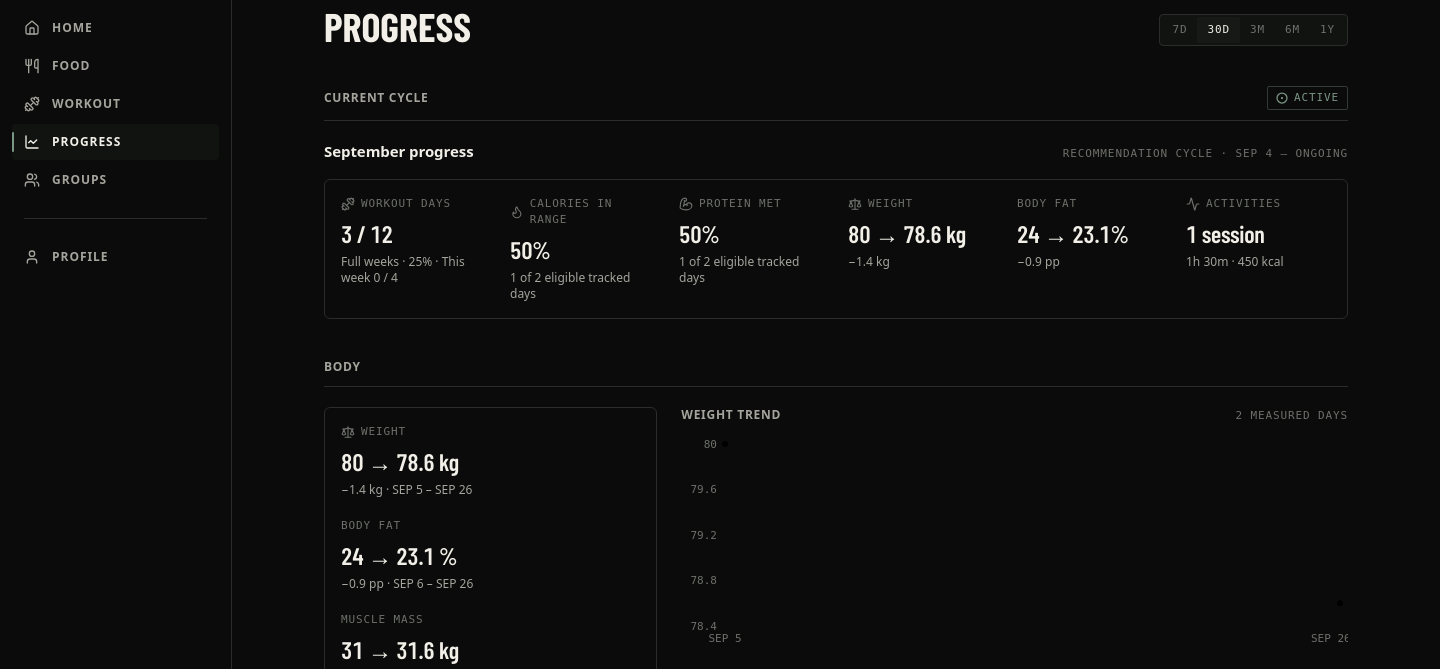
Switching the range › a range seen before appears at once, without a new request
This screenshot has width=1440, height=669.
Check: the heading "Progress" is shown, box [324,6,471,46]
Click the radio button labelled "7D" at (1180,30), box [1162,17,1197,43]
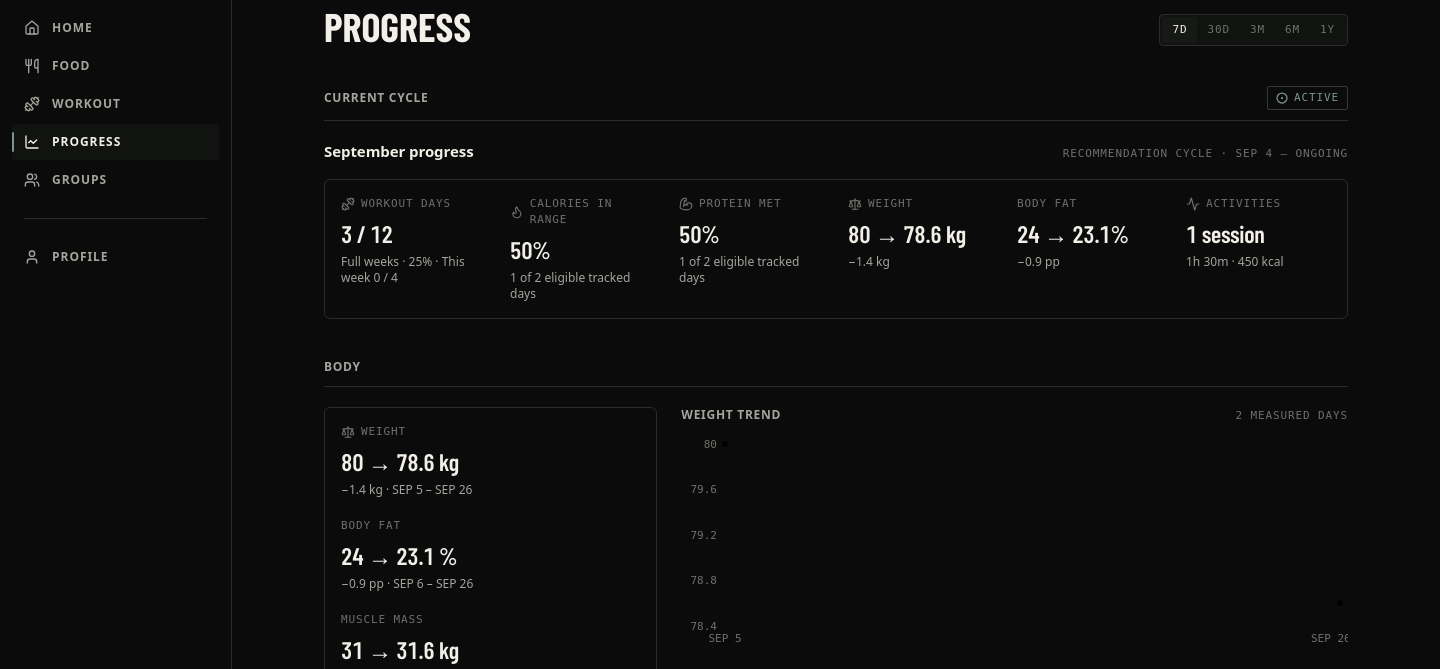
Click the radio button labelled "30D" at (1219,30), box [1197,17,1240,43]
(page scrolled)
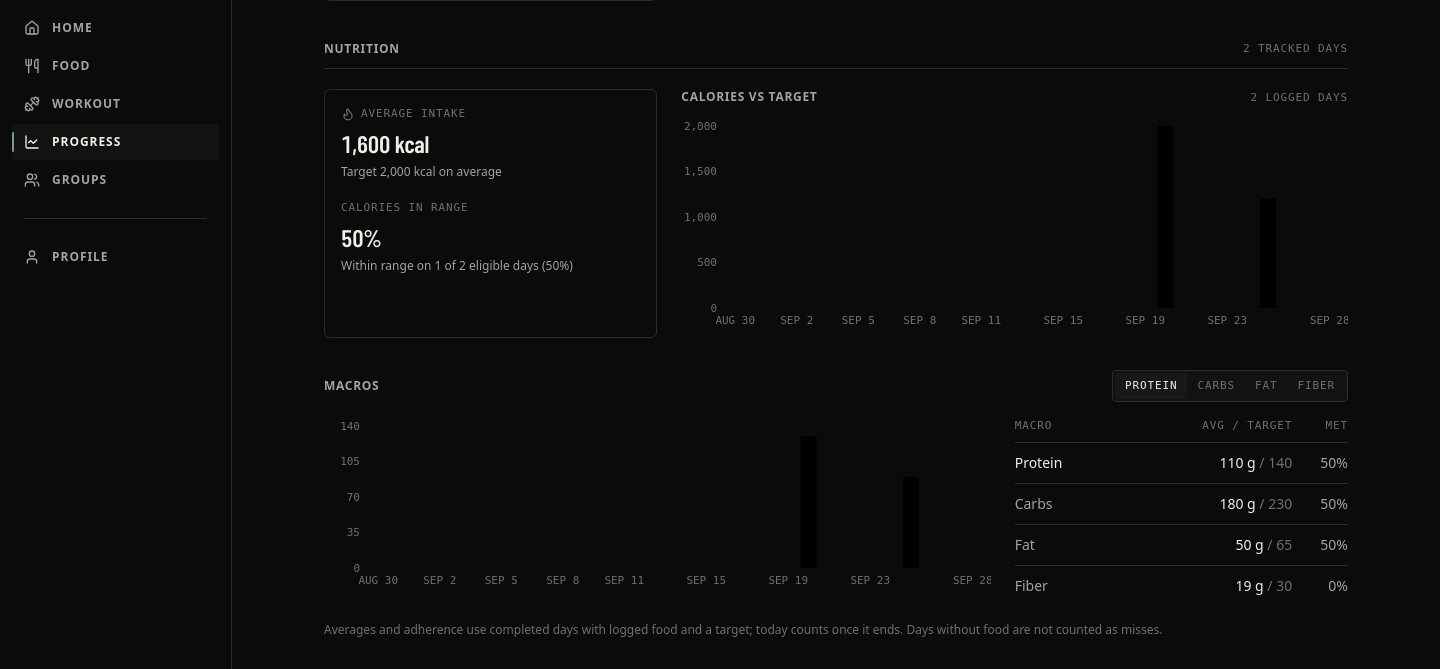
Check: the element "Nutrition" shows "2 tracked days", box [1243,42,1348,55]
